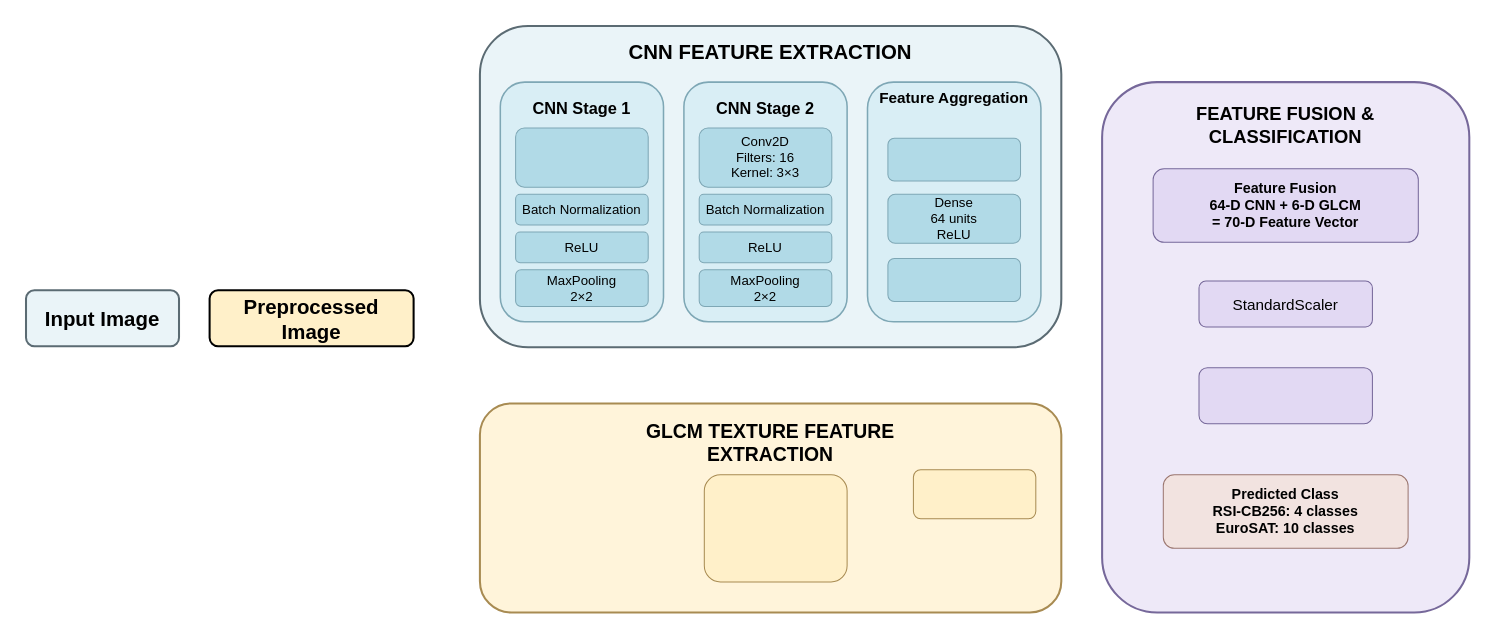
Some shapes in this 1487 by 630 pixel diagram are drawn without their labels. The centre of each missing label's shape, as x and y in pixels:
CNN Feature Vector 64-D: (x=954, y=279)
Contrast Dissimilarity Homogeneity Energy Correlation ASM: (x=775, y=528)
Conv2D Filters: 8 Kernel: 3×3: (x=581, y=157)
GLCM Feature Vector 6-D: (x=974, y=494)
Global Average Pooling: (x=954, y=159)
Linear SVM Classifier: (x=1285, y=395)
